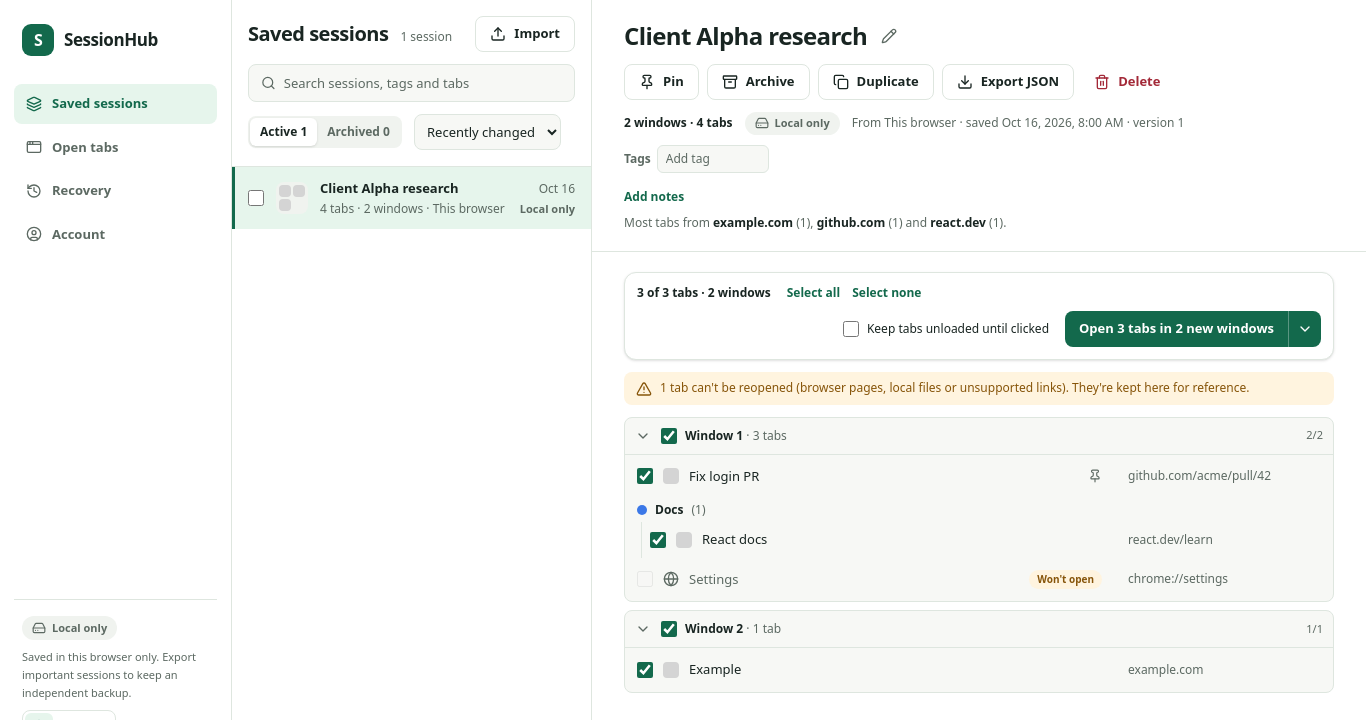
Test: restore retry › keeps the summary and shows why when a retry is refused
The image size is (1366, 720).
Click the button "Open 3 tabs in 2 new windows".
click(1176, 329)  # box [1065,311,1288,347]
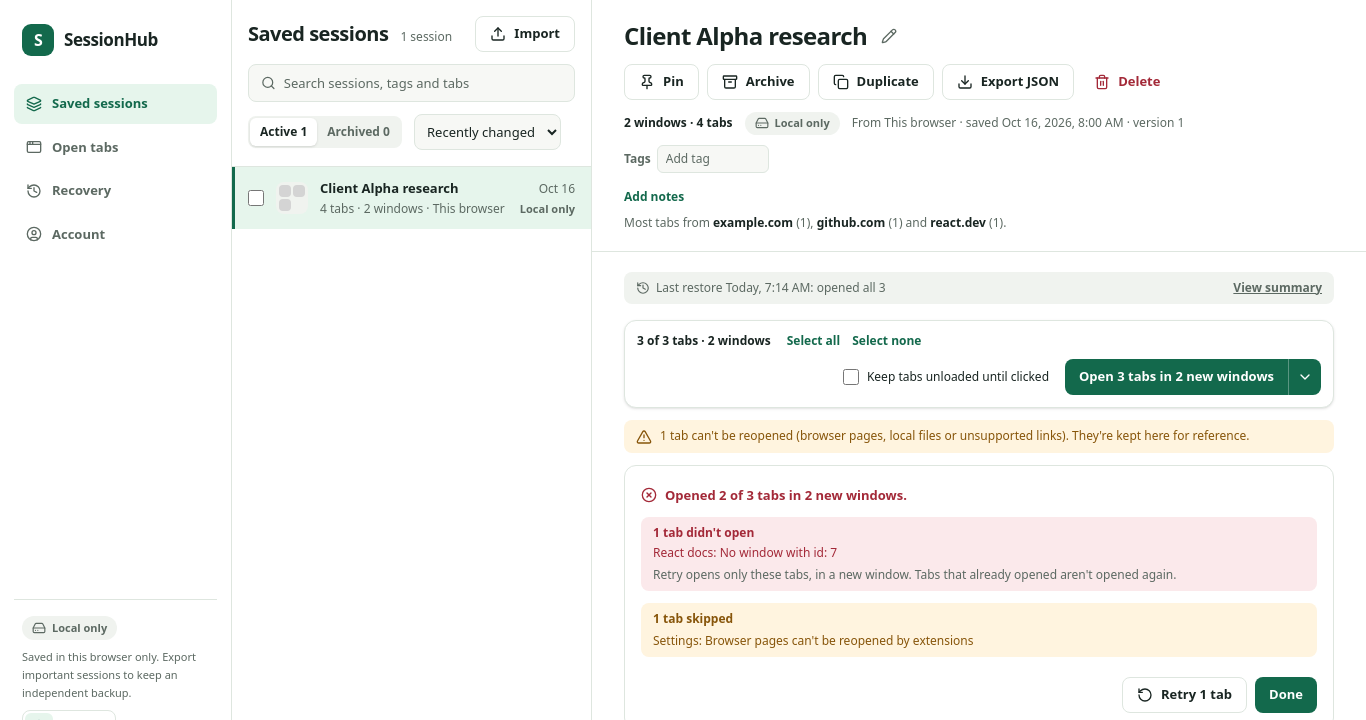
Result: the text "Opened 2 of 3 tabs in 2 new windows." is shown at [641,486,907,504]
Click the button "Retry 1 tab".
click(1185, 695)  # box [1122,677,1247,713]
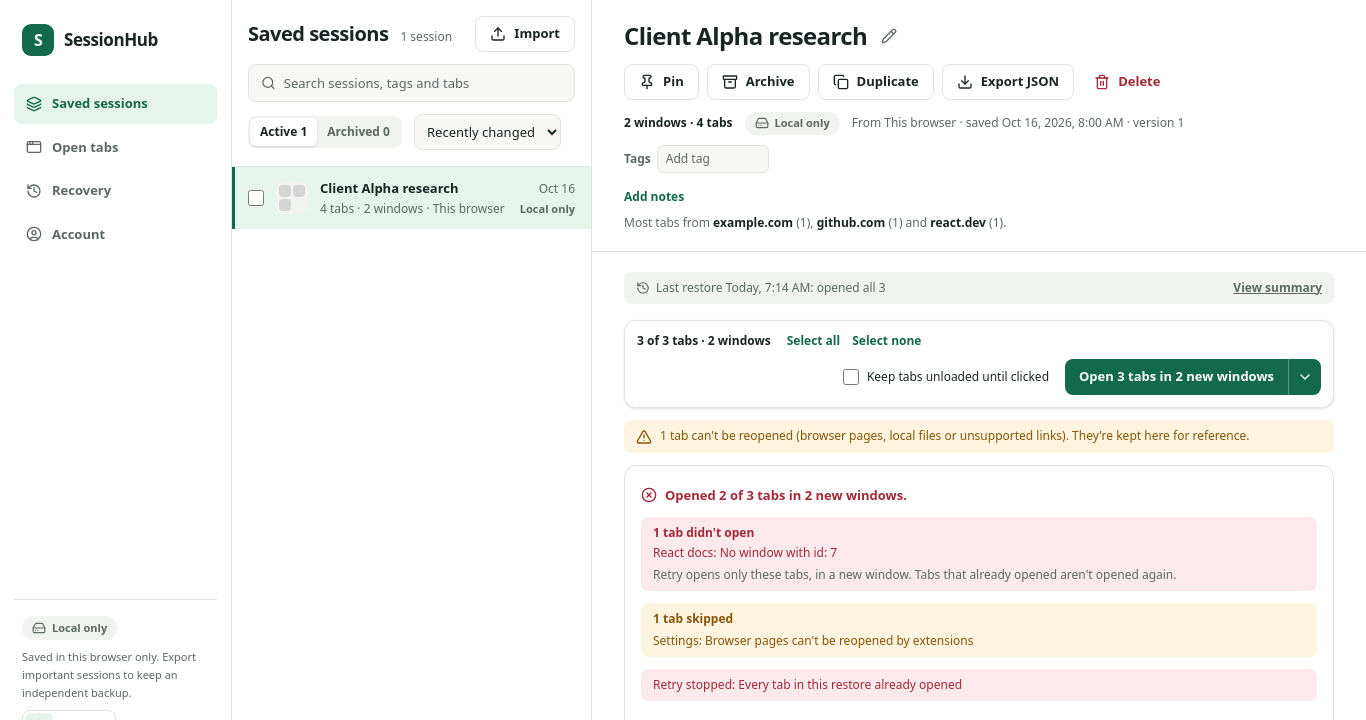
Result: the text "Opened 2 of 3 tabs in 2 new windows." is shown at [641,486,907,504]
Result: the message "Retry stopped: Every tab in this restore already opened" is shown at [641,669,1317,701]
